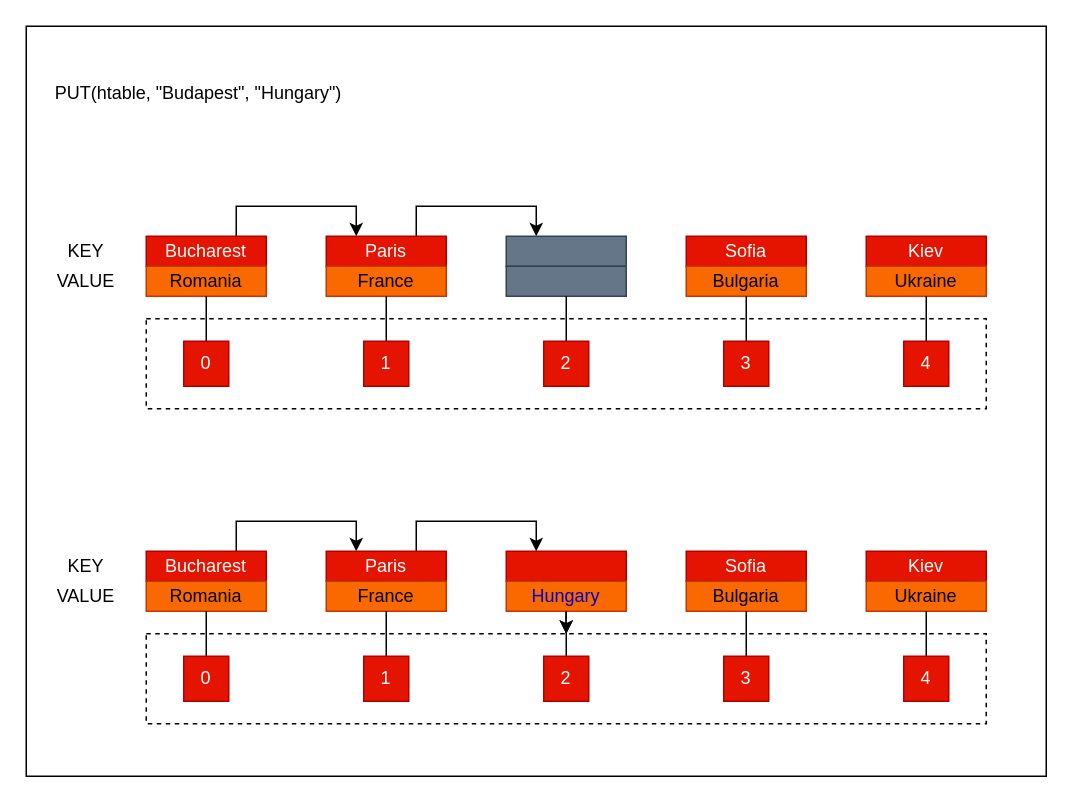
Image size: 1073x803. Some labels were removed from this diagram. Each missing label, with the centre of its shape:
Budapest: the point at 565,565
TOMBSTONE: the point at 565,250
